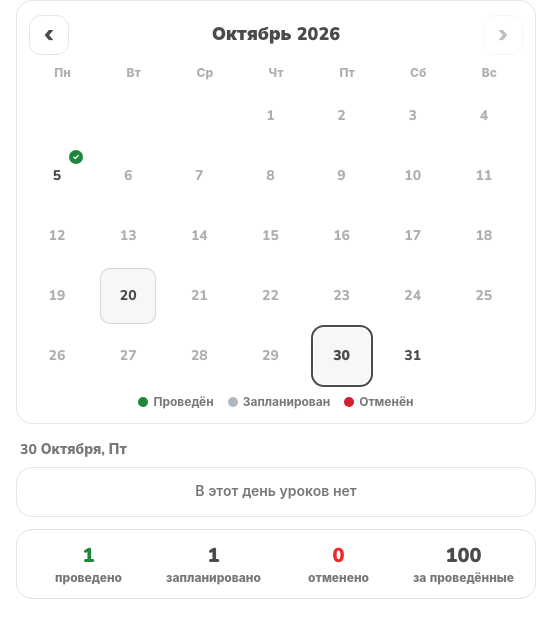
it: LessonCalendar › текущий месяц: точки по статусу, итог; день — список уроков
Expected: the button with class "done" showing "5" is shown, 29,148 -> 85,204
Click the button with class "day" showing "20" at (128, 296), box 100,268 -> 156,324
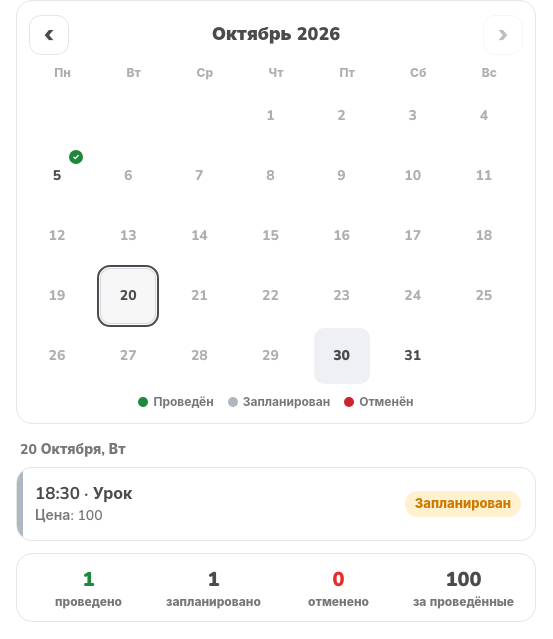
Result: the element showing "18:30 · Урок Цена: 100 Запланирован" is shown at 16,467 -> 536,541
